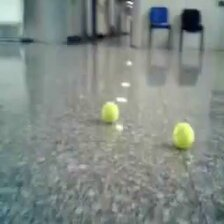tennis: (173, 121, 194, 147), (101, 101, 119, 123)
